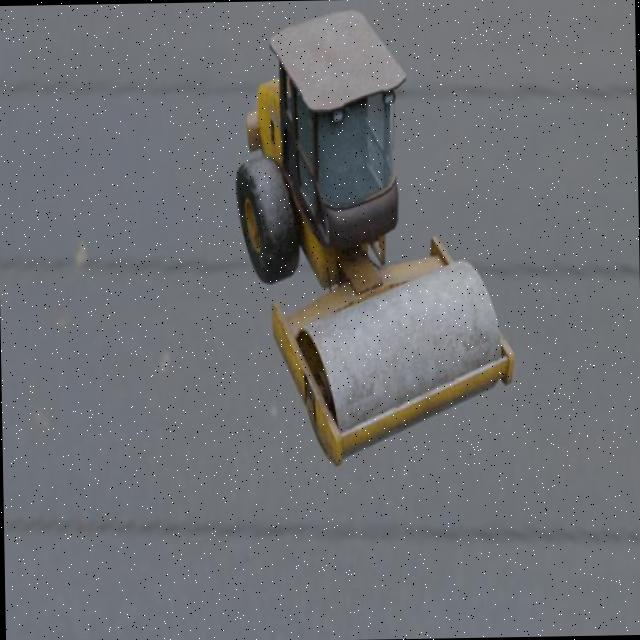Roller: (231, 5, 516, 468)
